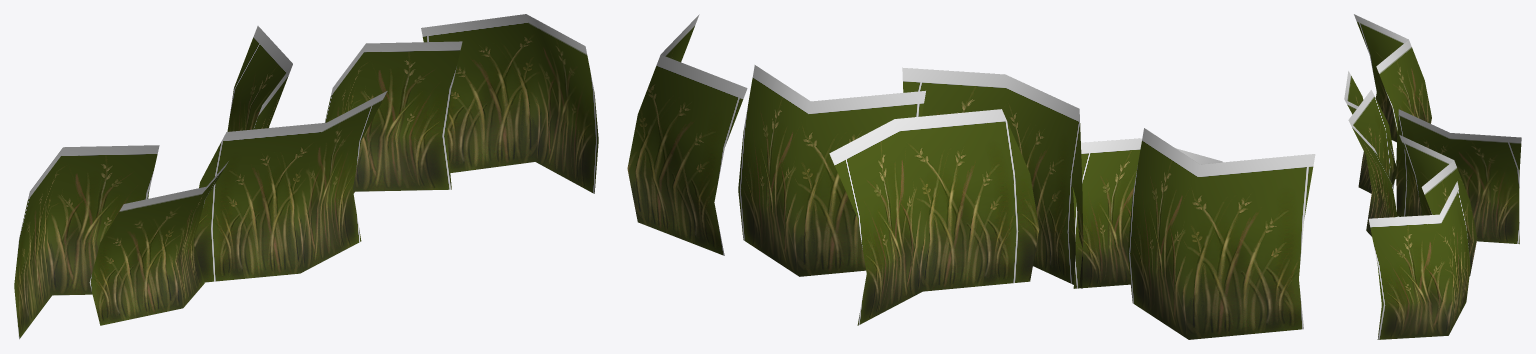
The model's file is n_SWCgrass02.glb.
3 views of the same model, side by side, from view 1: azimuth 30°, elevation 25°; view 2: azimuth 150°, elevation 25°; view 3: azimuth 270°, elevation 25° (orthographic). The views are drawn at different scales.
Parts seen in each view (by area): view 1: n_SWCgrass02; view 2: n_SWCgrass02; view 3: n_SWCgrass02.
Boxes of the visible parts, left/top/right/bottom form: n_SWCgrass02: left=14, top=14, right=598, bottom=339; n_SWCgrass02: left=627, top=14, right=1315, bottom=339; n_SWCgrass02: left=1344, top=14, right=1521, bottom=339.
Size of the model in its own units: 4.6 by 1.18 by 1.62.
1 material, 1 textured.
